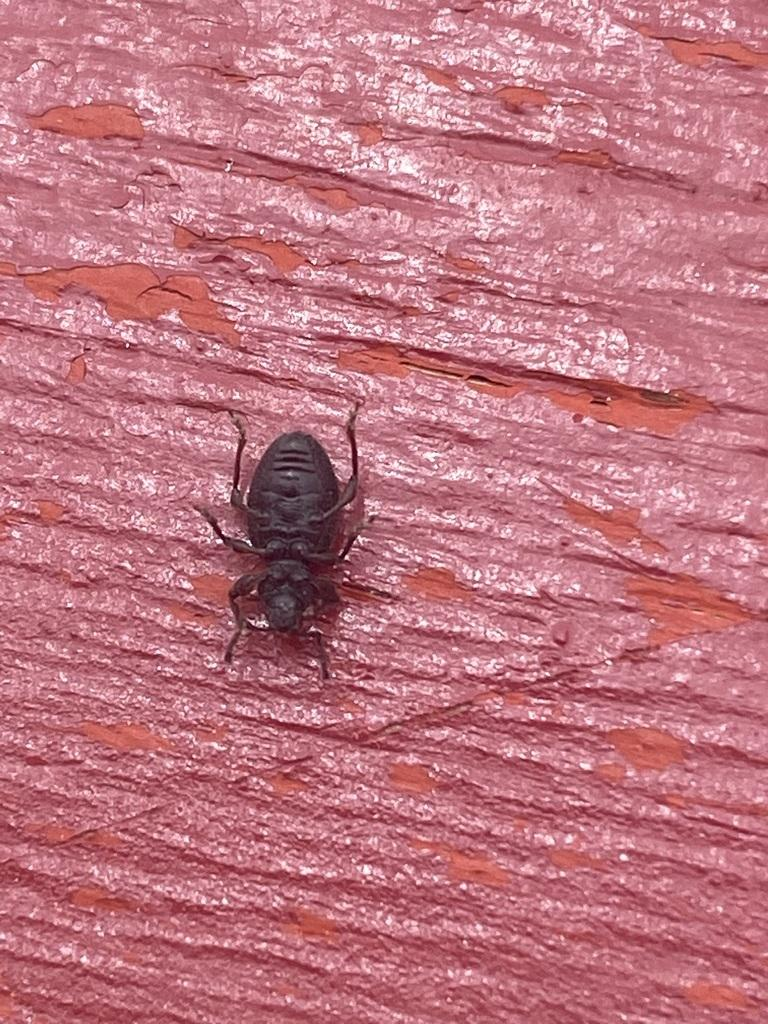weevils: (151, 383, 421, 707)
